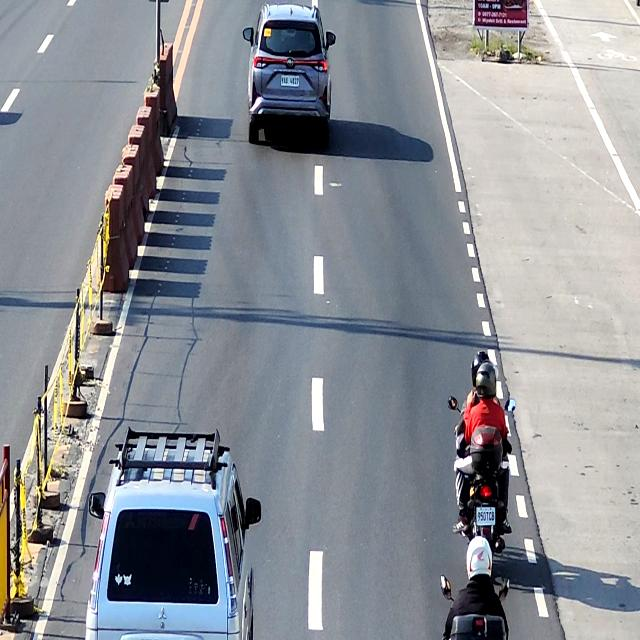Car: (84, 430, 261, 640), (241, 4, 337, 144)
License-Plate: (476, 506, 496, 526), (280, 74, 300, 87)
Motorcycle: (446, 393, 517, 565), (440, 573, 510, 640)
